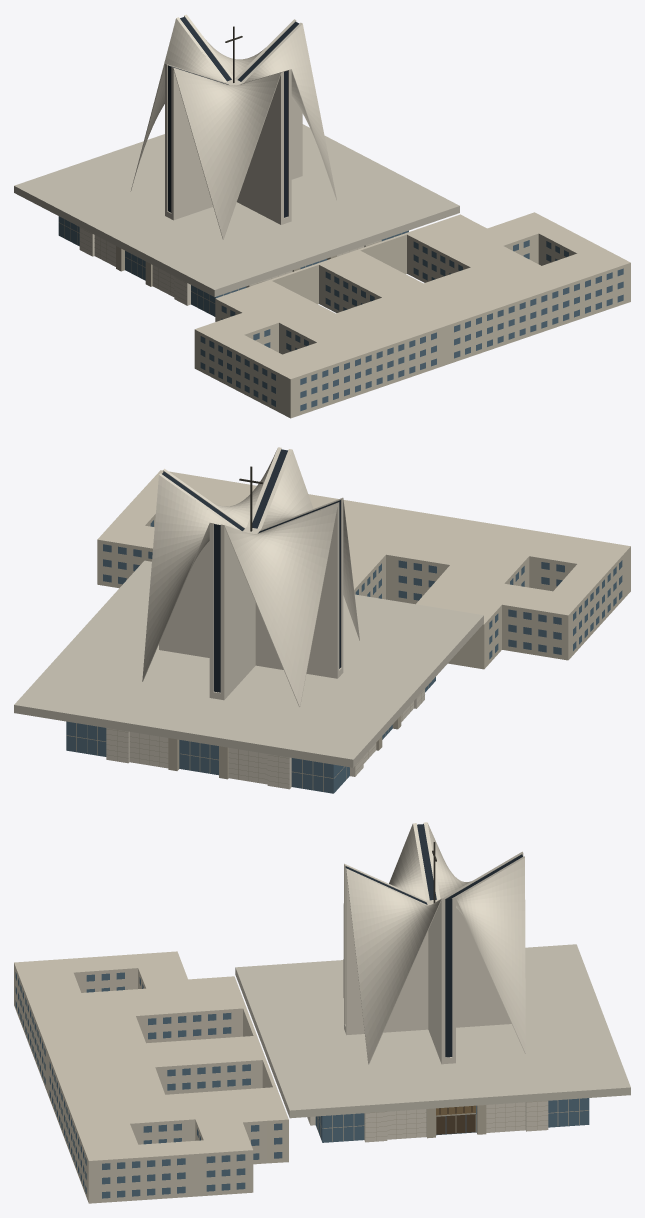
The model's file is cathedral-of-saint-mary-near.glb.
3 views of the same model, one above another, from view 1: azimuth 30°, elevation 25°; view 2: azimuth 150°, elevation 25°; view 3: azimuth 270°, elevation 25° (orthographic). The views are drawn at different scales.
Parts seen in each view (by area): view 1: cathedral-of-saint-mary-0-annex, cathedral-of-saint-mary-0-slab, cathedral-of-saint-mary-0-stone, cathedral-of-saint-mary-0-glass, cathedral-of-saint-mary-0-glow, cathedral-of-saint-mary-0-stoneDark; view 2: cathedral-of-saint-mary-0-slab, cathedral-of-saint-mary-0-stone, cathedral-of-saint-mary-0-annex, cathedral-of-saint-mary-0-glass, cathedral-of-saint-mary-0-glow, cathedral-of-saint-mary-0-stoneDark; view 3: cathedral-of-saint-mary-0-annex, cathedral-of-saint-mary-0-slab, cathedral-of-saint-mary-0-stone, cathedral-of-saint-mary-0-glass, cathedral-of-saint-mary-0-glow, cathedral-of-saint-mary-0-stoneDark, cathedral-of-saint-mary-0-bronze.
Part boxes in pixels (box(x1,y1,x2,y2)): cathedral-of-saint-mary-0-annex: box(194, 212, 630, 418); cathedral-of-saint-mary-0-slab: box(14, 124, 459, 296); cathedral-of-saint-mary-0-stone: box(79, 14, 381, 305); cathedral-of-saint-mary-0-glass: box(58, 216, 623, 411); cathedral-of-saint-mary-0-glow: box(168, 17, 299, 217); cathedral-of-saint-mary-0-stoneDark: box(59, 219, 401, 313); cathedral-of-saint-mary-0-slab: box(14, 560, 483, 767); cathedral-of-saint-mary-0-stone: box(106, 447, 424, 789); cathedral-of-saint-mary-0-annex: box(97, 470, 630, 669); cathedral-of-saint-mary-0-glass: box(66, 520, 622, 793); cathedral-of-saint-mary-0-glow: box(162, 449, 340, 692); cathedral-of-saint-mary-0-stoneDark: box(66, 685, 428, 791); cathedral-of-saint-mary-0-annex: box(14, 951, 288, 1203); cathedral-of-saint-mary-0-slab: box(235, 944, 630, 1118); cathedral-of-saint-mary-0-stone: box(307, 822, 548, 1142); cathedral-of-saint-mary-0-glass: box(15, 972, 589, 1198); cathedral-of-saint-mary-0-glow: box(345, 824, 522, 1057); cathedral-of-saint-mary-0-stoneDark: box(309, 1098, 588, 1141); cathedral-of-saint-mary-0-bronze: box(436, 1106, 475, 1134).
Size of the model in its own units: 111 by 58 by 138.
